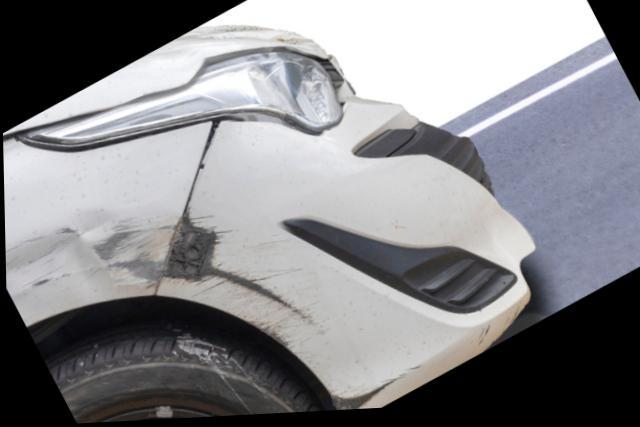dent: (4, 235, 115, 326)
scratch: (157, 204, 319, 349), (69, 208, 174, 286), (327, 370, 422, 414)
